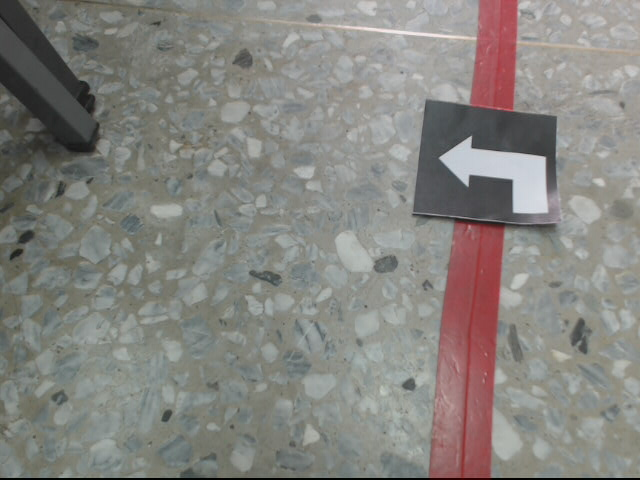left: (410, 99, 563, 227)
